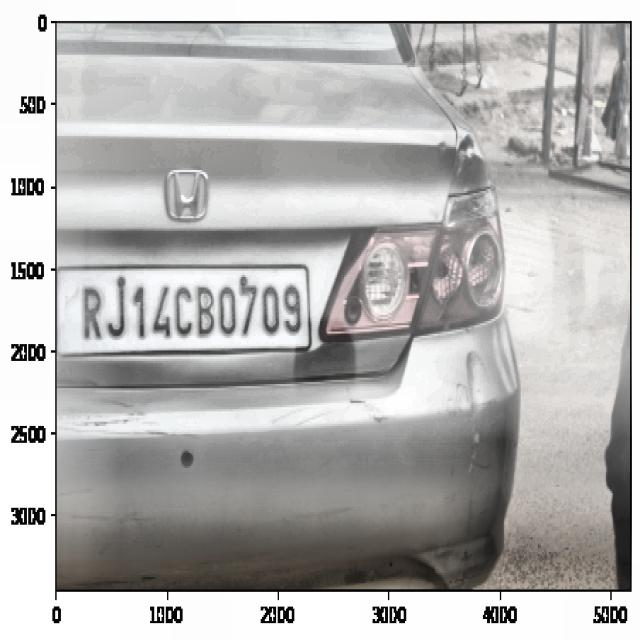license_plate: (72, 270, 308, 354)
